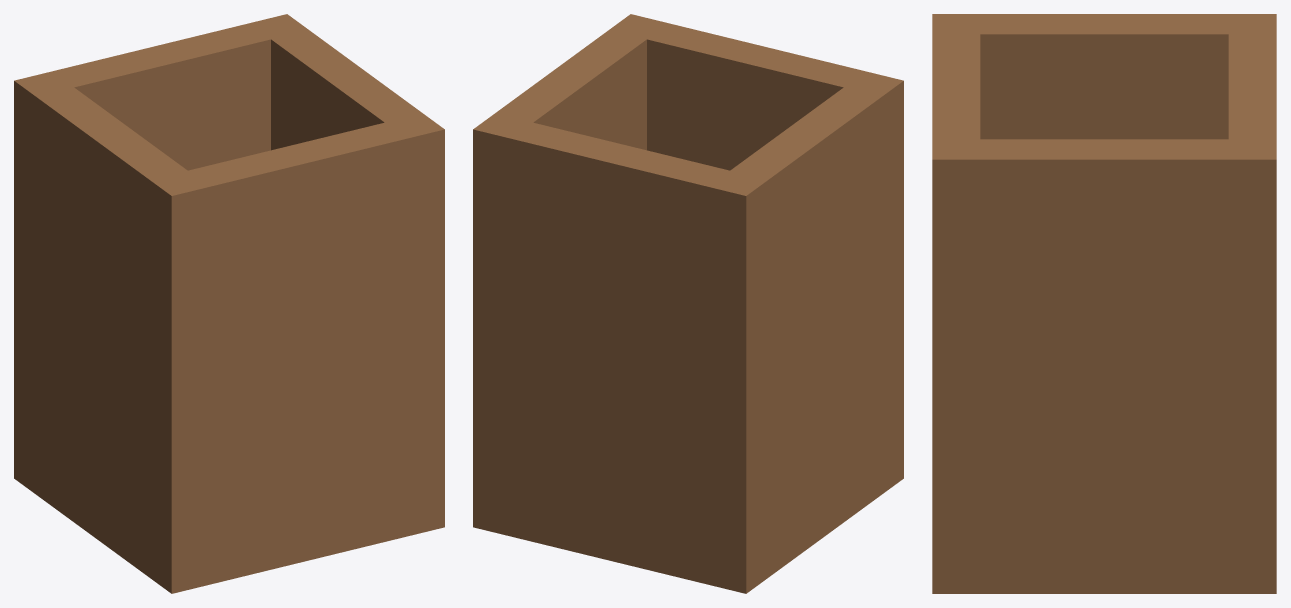
The model's file is Trashcan_1.fbx.
3 renders of one model, left to right at view 1: azimuth 30°, elevation 25°; view 2: azimuth 150°, elevation 25°; view 3: azimuth 270°, elevation 25°, orthographic. The views are drawn at different scales.
Parts seen in each view (by area): view 1: Trashcan_mesh; view 2: Trashcan_mesh; view 3: Trashcan_mesh.
Part boxes in pixels (box(x1,y1,x2,y2)): Trashcan_mesh: box(14, 14, 444, 593); Trashcan_mesh: box(473, 14, 903, 593); Trashcan_mesh: box(932, 14, 1276, 593).
Bounding box in the file's own units: 39.77 × 55.36 × 39.77.
